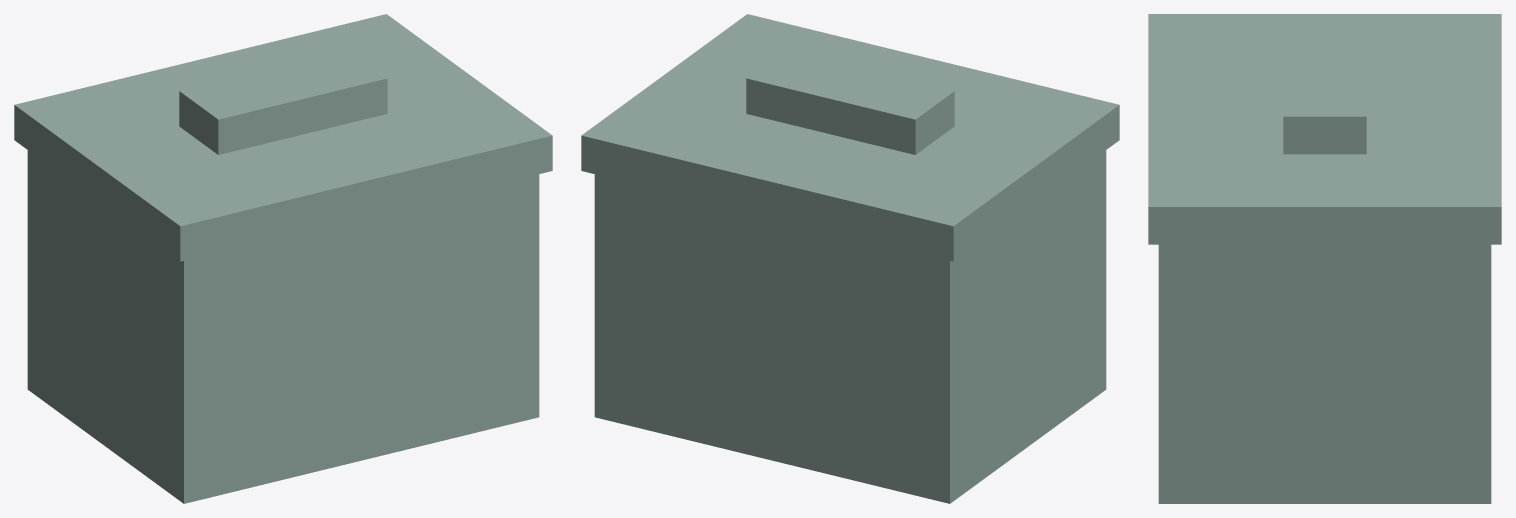
Rendered from product_poach_carton.glb.
The picture shows the model from 3 angles, left to right: view 1: azimuth 30°, elevation 25°; view 2: azimuth 150°, elevation 25°; view 3: azimuth 270°, elevation 25°; orthographic projection. The views are drawn at different scales.
Parts seen in each view (by area): view 1: ProductArt_body; view 2: ProductArt_body; view 3: ProductArt_body.
Boxes of the visible parts, x1=… form: ProductArt_body: x1=14, y1=14, x2=552, y2=503; ProductArt_body: x1=581, y1=14, x2=1119, y2=503; ProductArt_body: x1=1148, y1=14, x2=1501, y2=503.
Bounding box in the file's own units: 0.24 × 0.1964 × 0.1855.
